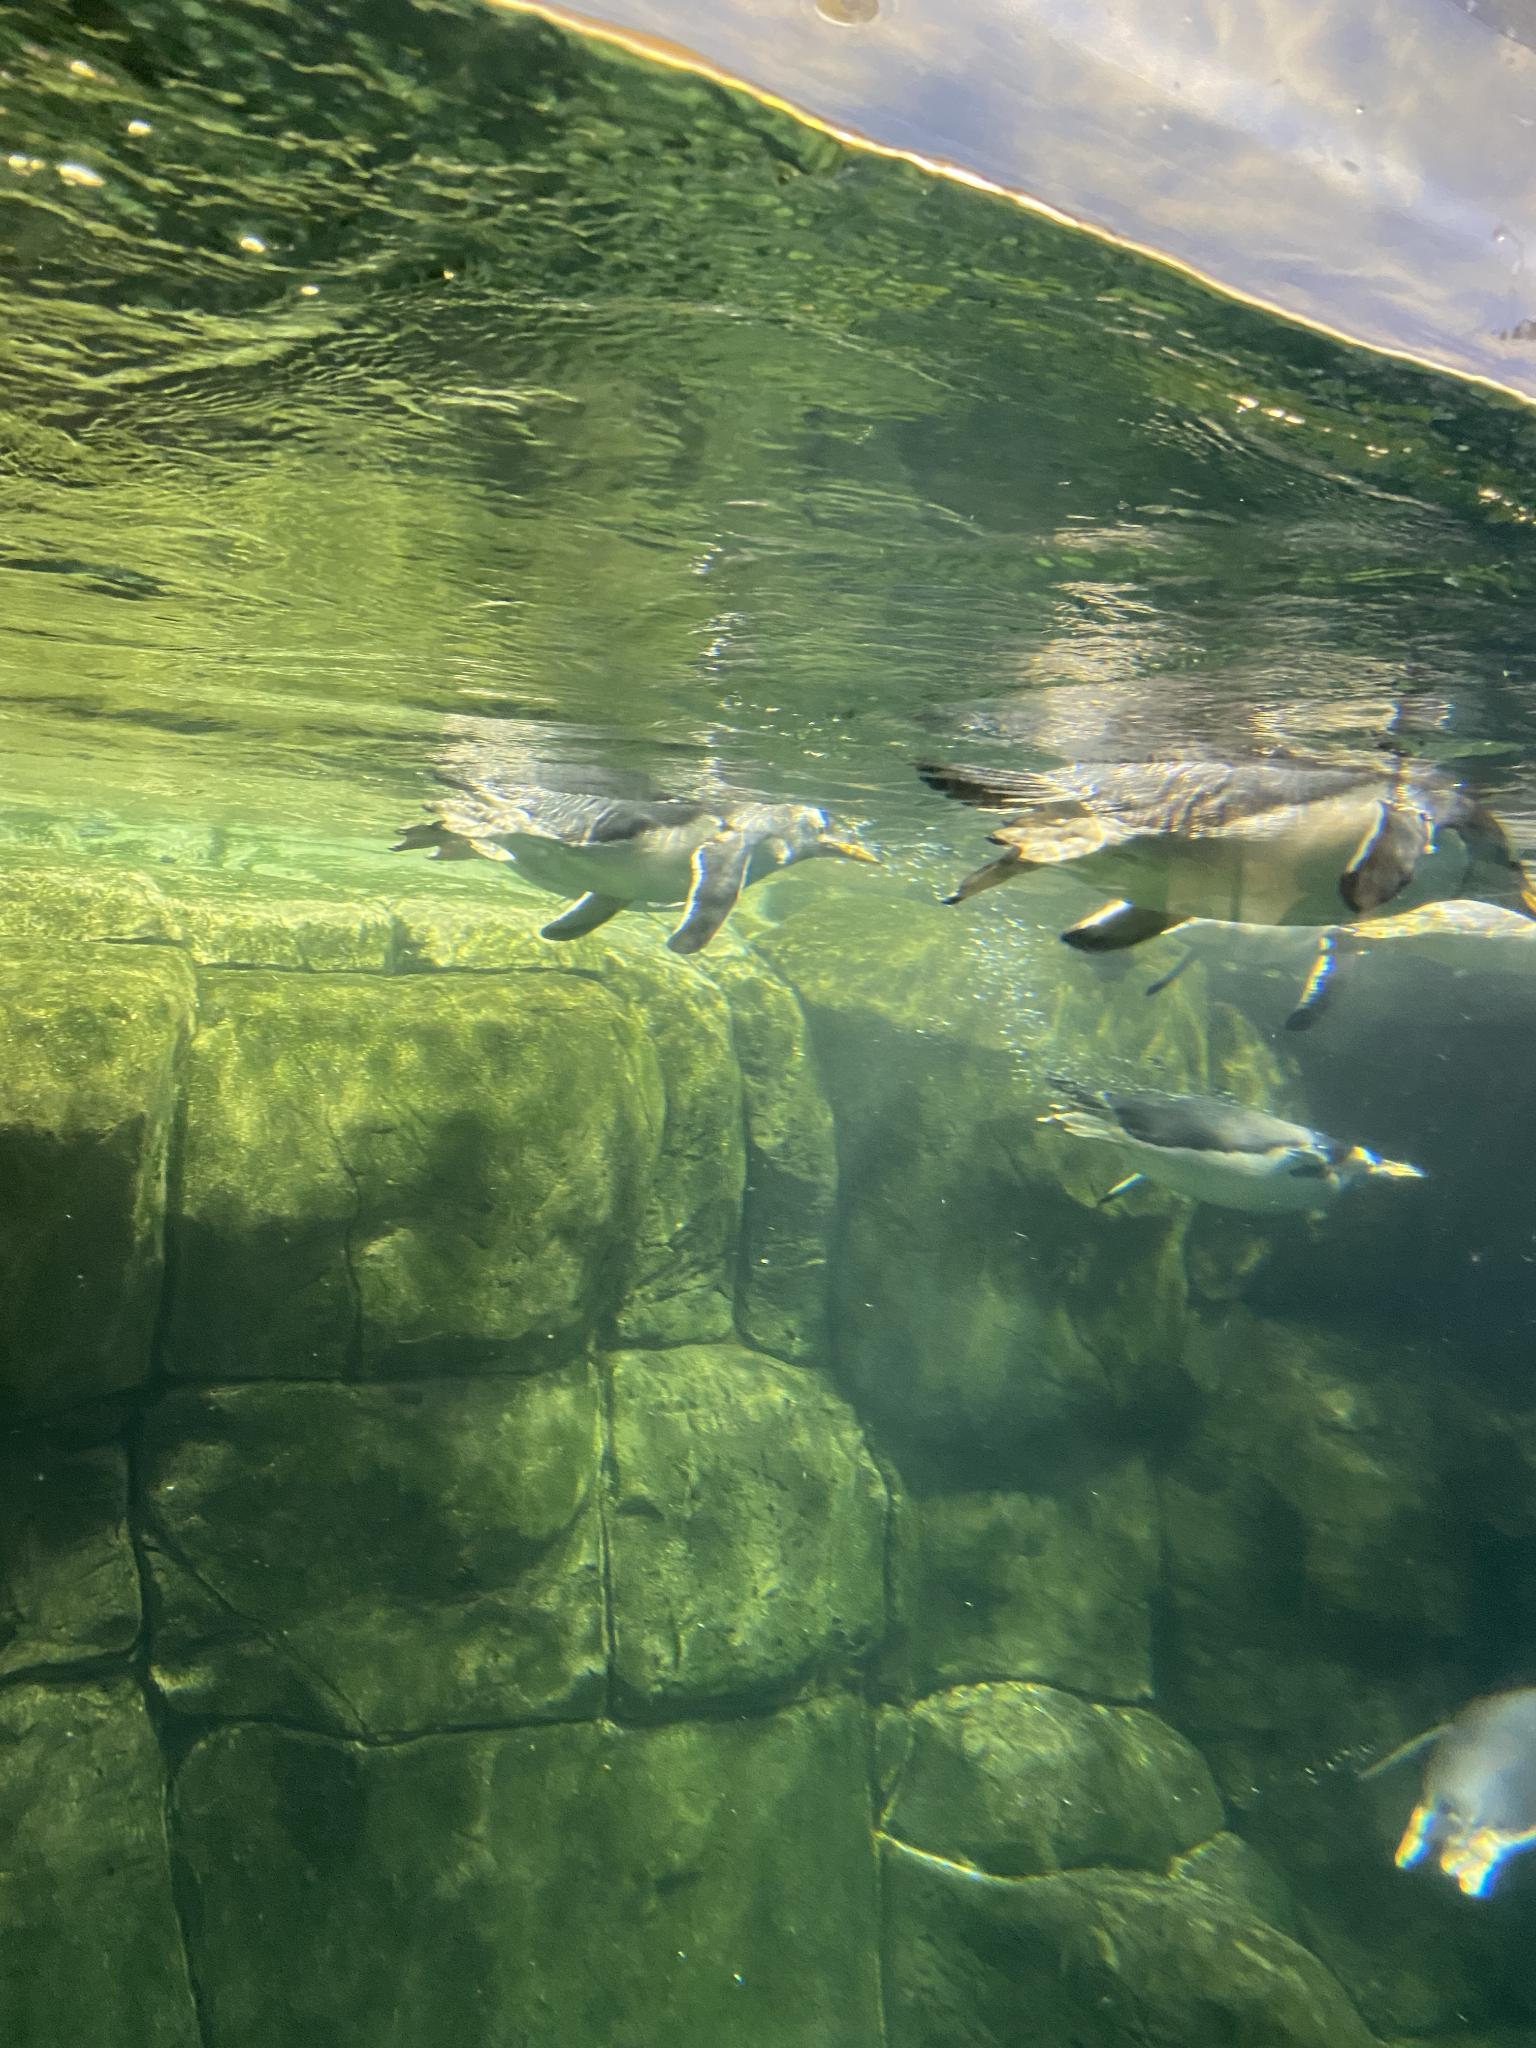penguin: (912, 756, 1534, 959), (381, 784, 883, 948), (1049, 1059, 1428, 1242), (1367, 1688, 1536, 1901)
